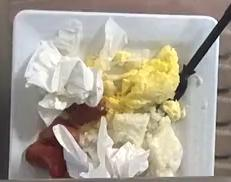biscuit: (113, 107, 183, 176)
sausage: (30, 101, 106, 177)
scrambled_eggs: (103, 45, 179, 112)
